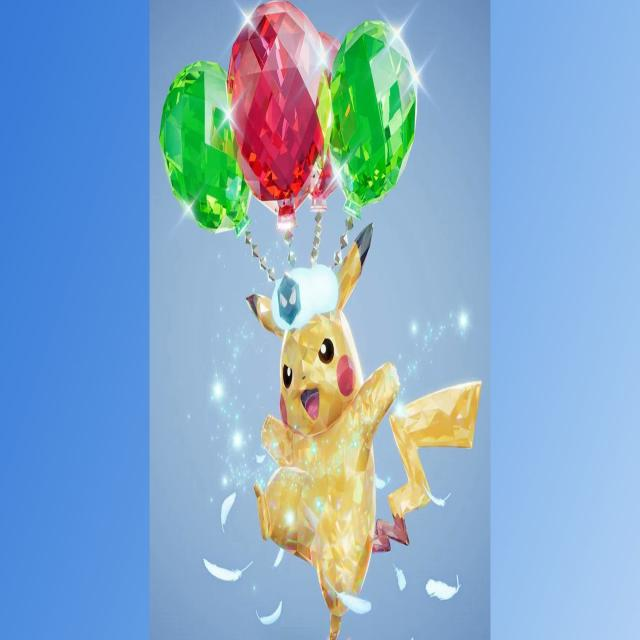Pikachu: (229, 260, 455, 616)
